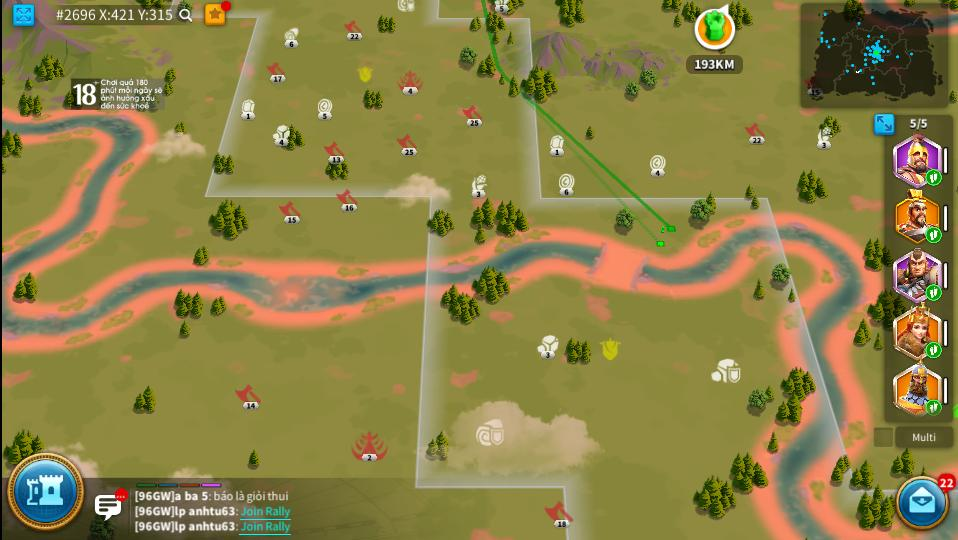gem-z-out: (548, 135, 564, 157), (242, 100, 255, 121)
march_marching: (925, 228, 942, 242), (926, 170, 940, 185), (927, 400, 941, 415), (926, 285, 940, 299), (928, 343, 940, 357)
